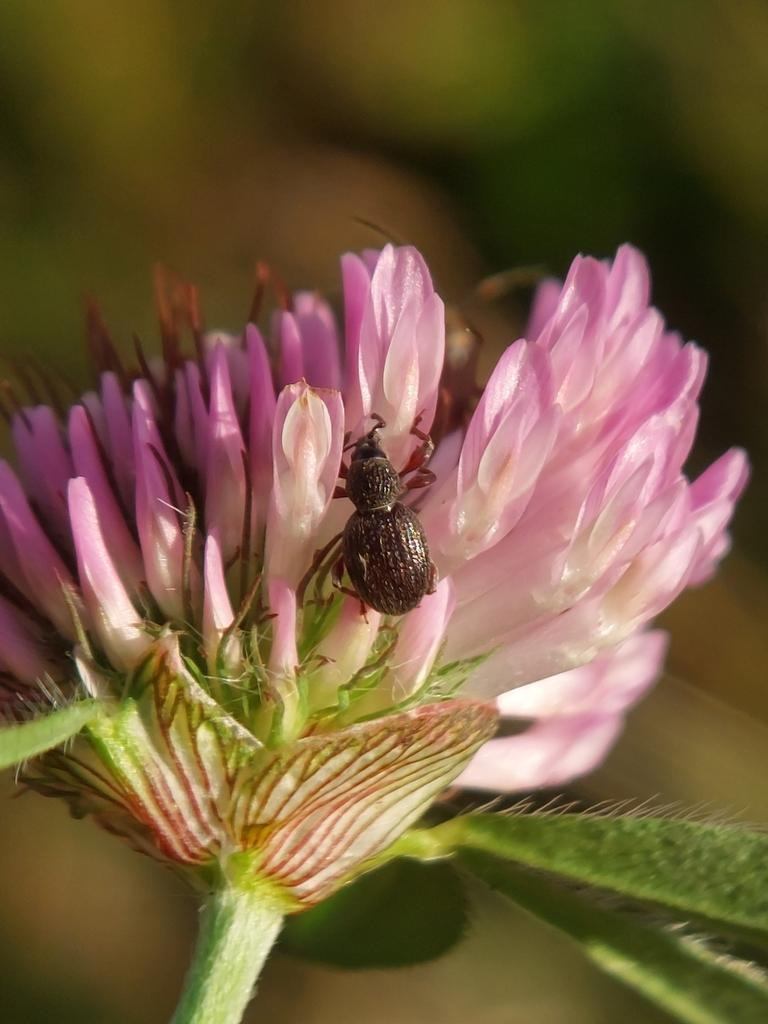weevils: (290, 381, 486, 651)
